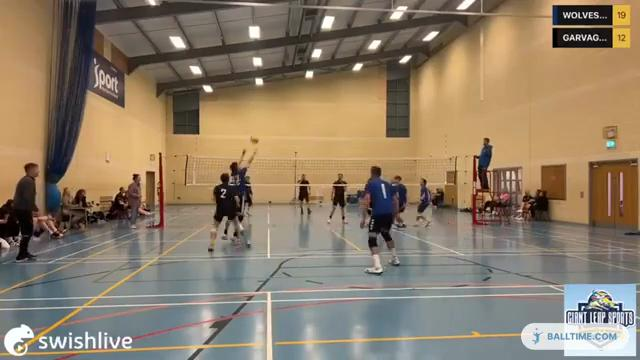difesa: (220, 145, 258, 239)
